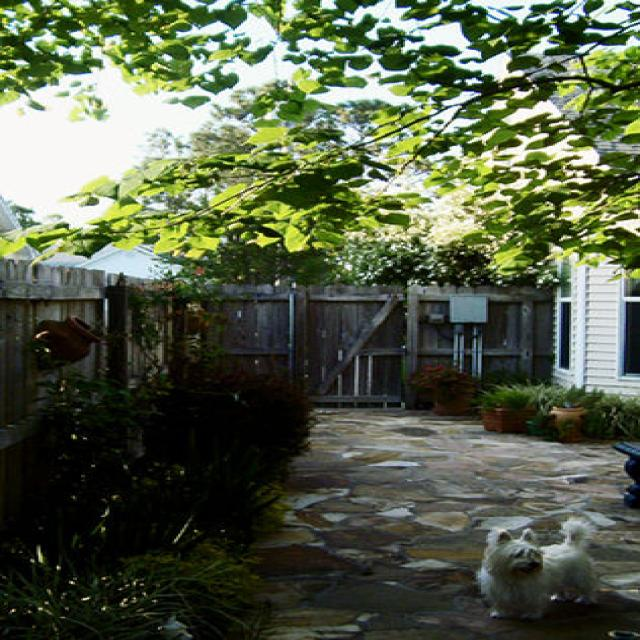dog: (477, 520, 600, 621)
pottedplant: (38, 316, 111, 370), (408, 366, 483, 418), (475, 384, 538, 434), (548, 400, 588, 444)
